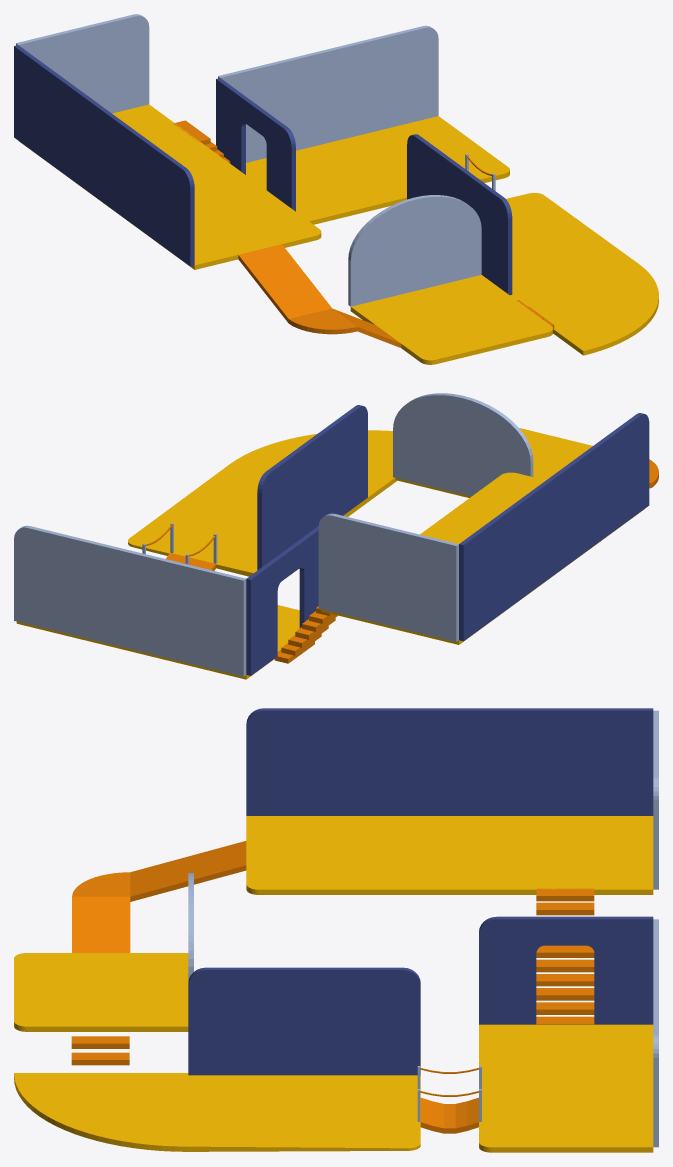
File: stanze-vuote.glb
3 views of the same model, one above another, from view 1: azimuth 30°, elevation 25°; view 2: azimuth 150°, elevation 25°; view 3: azimuth 270°, elevation 25° (orthographic). The views are drawn at different scales.
Visible parts, largest first — view 1: muro_galleria1, muro, pavimento_skill, pavimento_scuola, pavimento_galleria, muro_home, pvaimento_home, muro_galleria2, muro_skill, scivolo, muro_porta, scale2; view 2: muro, muro_galleria1, muro_galleria2, pavimento_skill, muro_home, muro_skill, muro_porta, pavimento_galleria, pvaimento_home, pavimento_scuola, scale2; view 3: muro_galleria1, pavimento_galleria, pavimento_skill, muro_skill, pavimento_scuola, muro_porta, pvaimento_home, scivolo, scale2, ponte, scale1, muro (+1 smaller).
Part boxes in pixels (x1=…): muro_galleria1: x1=14, y1=45, x2=194, y2=266; muro: x1=218, y1=25, x2=438, y2=162; pavimento_skill: x1=506, y1=193, x2=658, y2=355; pavimento_scuola: x1=246, y1=116, x2=509, y2=224; pavimento_galleria: x1=19, y1=104, x2=321, y2=269; muro_home: x1=348, y1=195, x2=481, y2=306; pvaimento_home: x1=350, y1=275, x2=552, y2=364; muro_galleria2: x1=16, y1=14, x2=149, y2=113; muro_skill: x1=407, y1=134, x2=512, y2=295; scivolo: x1=238, y1=244, x2=401, y2=347; muro_porta: x1=216, y1=78, x2=295, y2=211; scale2: x1=173, y1=120, x2=230, y2=163; muro: x1=14, y1=525, x2=246, y2=676; muro_galleria1: x1=459, y1=413, x2=649, y2=641; muro_galleria2: x1=318, y1=513, x2=458, y2=641; pavimento_skill: x1=128, y1=430, x2=396, y2=576; muro_home: x1=393, y1=393, x2=533, y2=496; muro_skill: x1=257, y1=405, x2=367, y2=570; muro_porta: x1=246, y1=526, x2=318, y2=675; pavimento_galleria: x1=321, y1=472, x2=644, y2=644; pvaimento_home: x1=395, y1=428, x2=592, y2=497; pavimento_scuola: x1=16, y1=605, x2=299, y2=679; scale2: x1=274, y1=606, x2=337, y2=663; muro_galleria1: x1=246, y1=708, x2=653, y2=815; pavimento_galleria: x1=246, y1=816, x2=653, y2=894; pavimento_skill: x1=14, y1=1073, x2=420, y2=1151; muro_skill: x1=188, y1=967, x2=420, y2=1075; pavimento_scuola: x1=479, y1=1024, x2=653, y2=1152; muro_porta: x1=479, y1=916, x2=653, y2=1024; pvaimento_home: x1=14, y1=953, x2=188, y2=1031; scivolo: x1=72, y1=841, x2=246, y2=952; scale2: x1=536, y1=888, x2=594, y2=1024; ponte: x1=420, y1=1097, x2=478, y2=1133; scale1: x1=71, y1=1036, x2=129, y2=1065; muro: x1=653, y1=919, x2=658, y2=1147.
Bounding box in the file's own units: 9.73 × 4.02 × 11.1.
